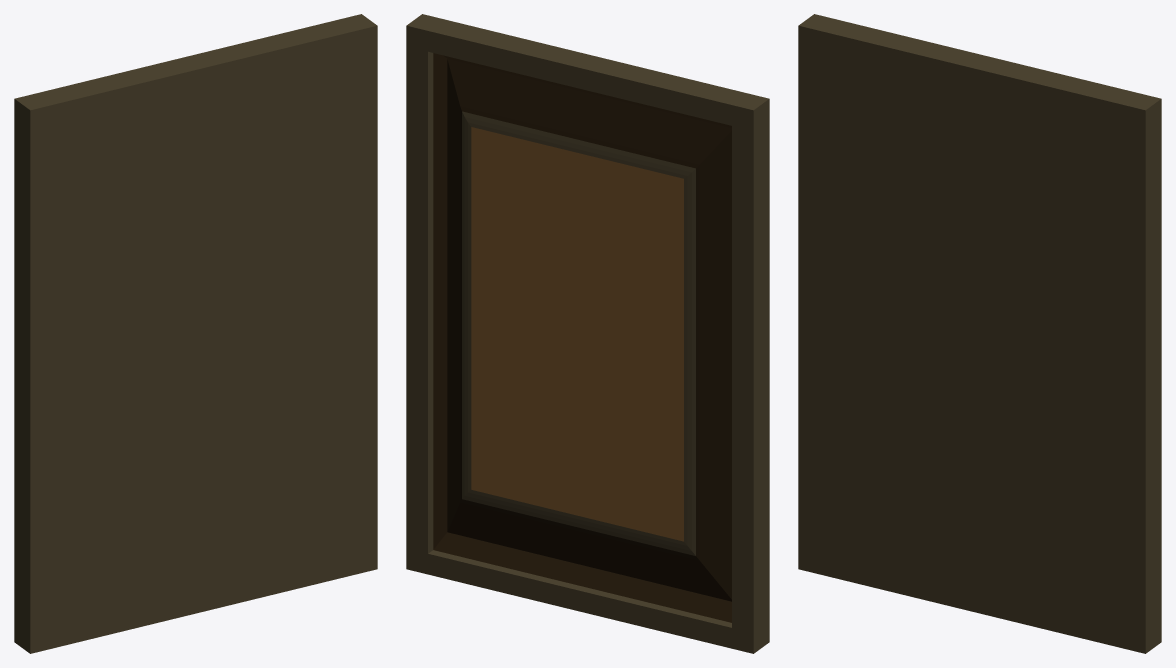
Rendered from Puerta_Cajón5.fbx.
The picture shows the model from 3 angles, left to right: view 1: azimuth 30°, elevation 25°; view 2: azimuth 150°, elevation 25°; view 3: azimuth 330°, elevation 25°; orthographic projection.
Visible parts, largest first — view 1: Cube.007; view 2: Cube.007; view 3: Cube.007.
Boxes of the visible parts, x1,y1,x2,y2 form: Cube.007: [14, 14, 377, 653]; Cube.007: [406, 14, 769, 653]; Cube.007: [798, 14, 1161, 653].
Size of the model in its own units: 33.09 by 49.51 by 2.63.
